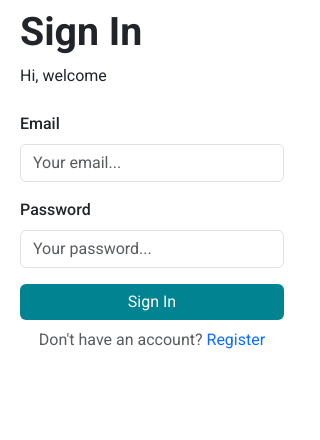
Scenario: Login spec › should display alert when password is empty
Type "someemail@example.com" into the field named "email" at (152, 163), box [20,144,284,182]
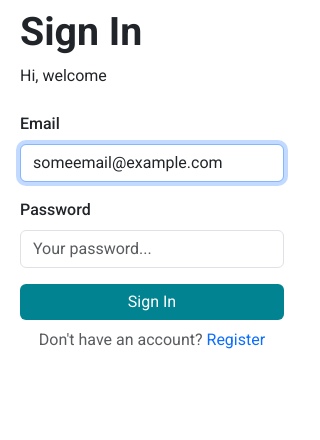
Click the submit button at (152, 302), box [20,284,284,320]
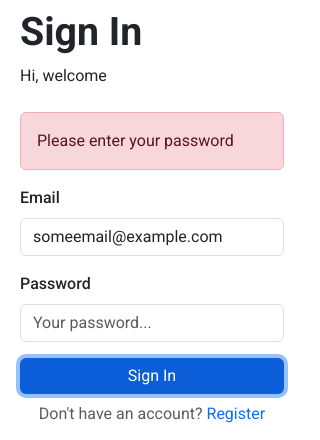
Expected: the text "Please enter your password" is shown, [20,112,284,170]
